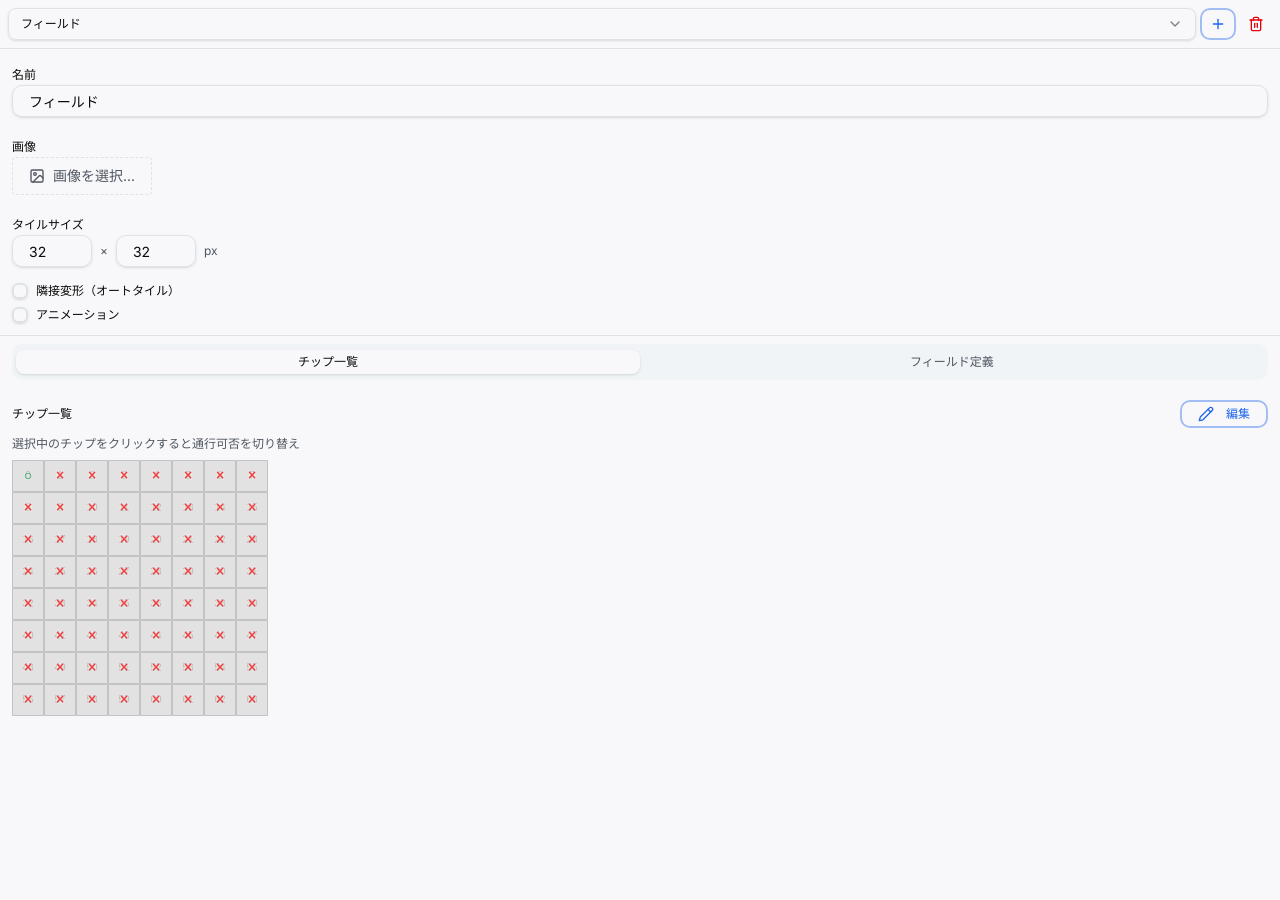
ChipsetEditor › 未選択でも「編集」ボタンでモーダルを開ける（モーダル内でチップを選べるため）
Click the button "編集". click: (1224, 414)
box: [1180, 400, 1268, 428]
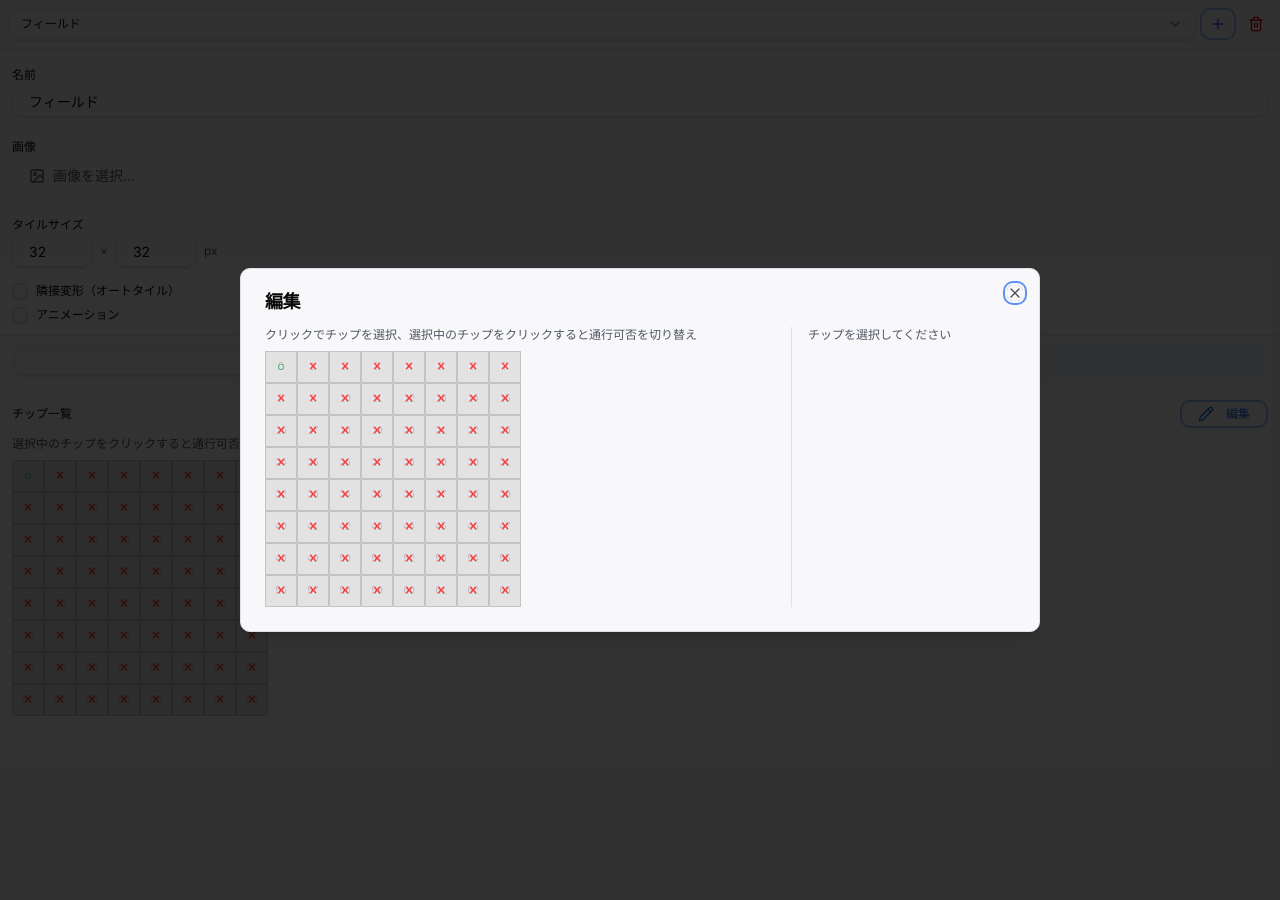
Expected: the text "チップを選択してください" is shown, [808, 327, 951, 342]
